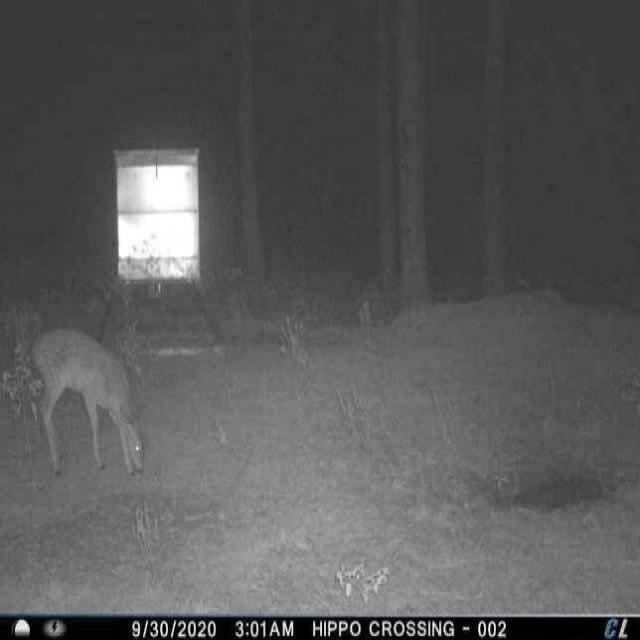deer: (29, 325, 154, 488)
